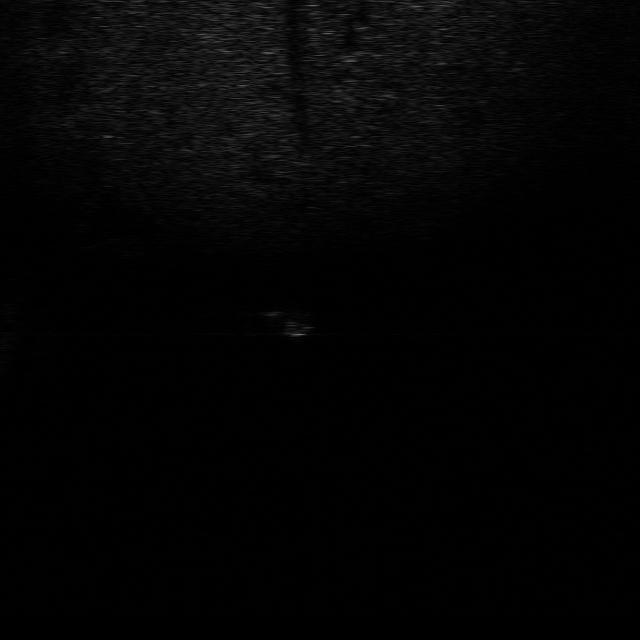human body: (258, 307, 322, 340)
